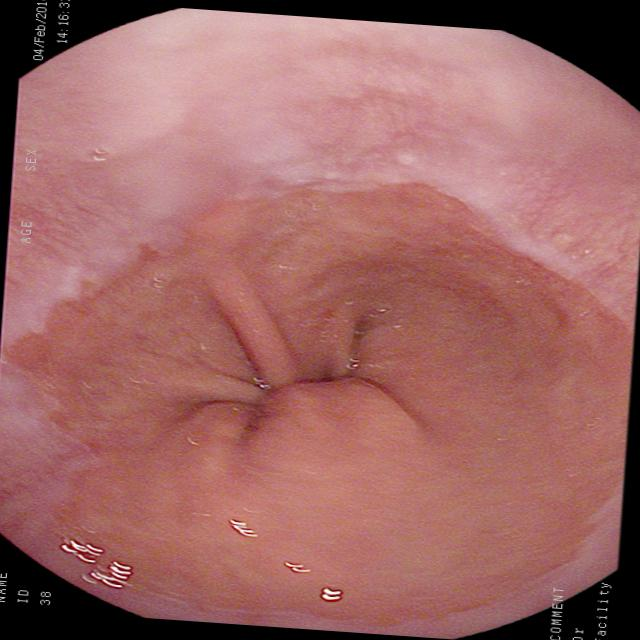Normal-Z-Line: (0, 172, 637, 637)
